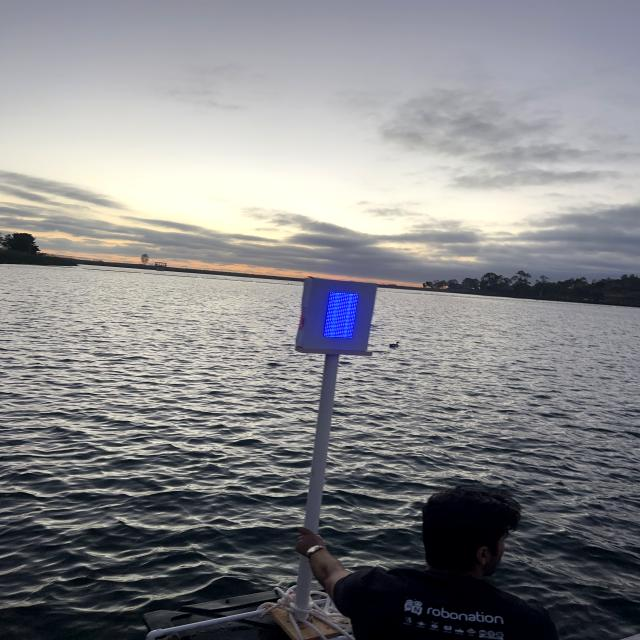led: (312, 280, 368, 352)
